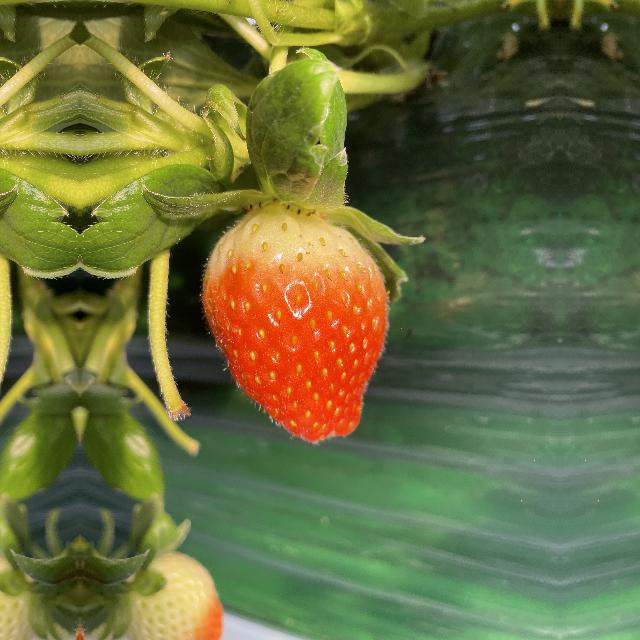Health_100: (192, 201, 400, 451)
